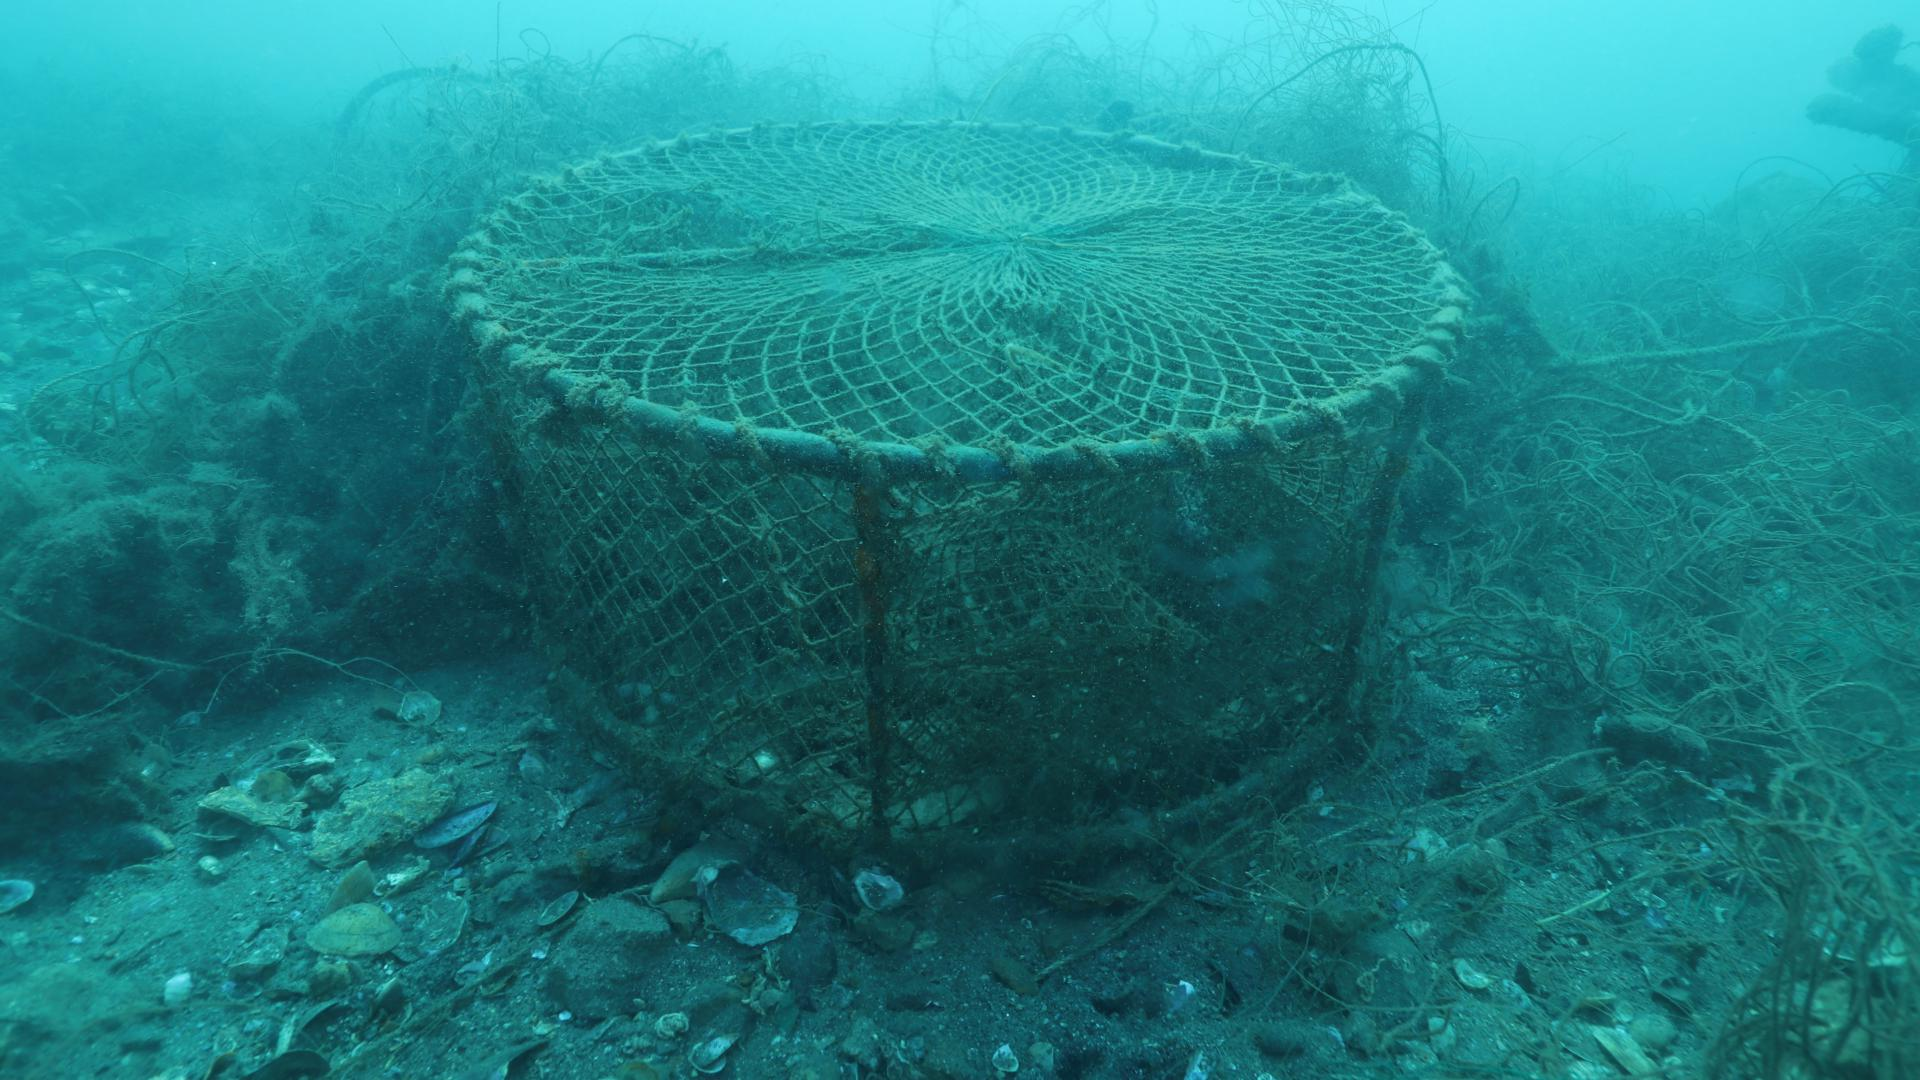circular fish trap: (444, 112, 1474, 865)
